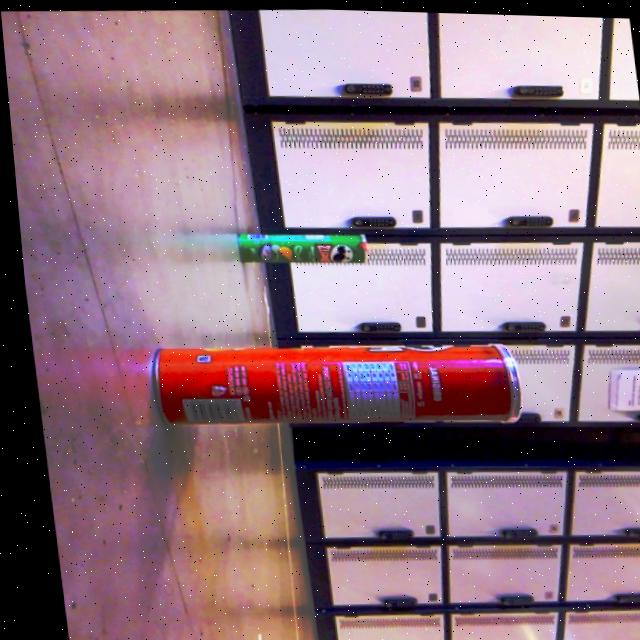greenpringles: (231, 223, 367, 279)
redpringles: (133, 326, 523, 443)
